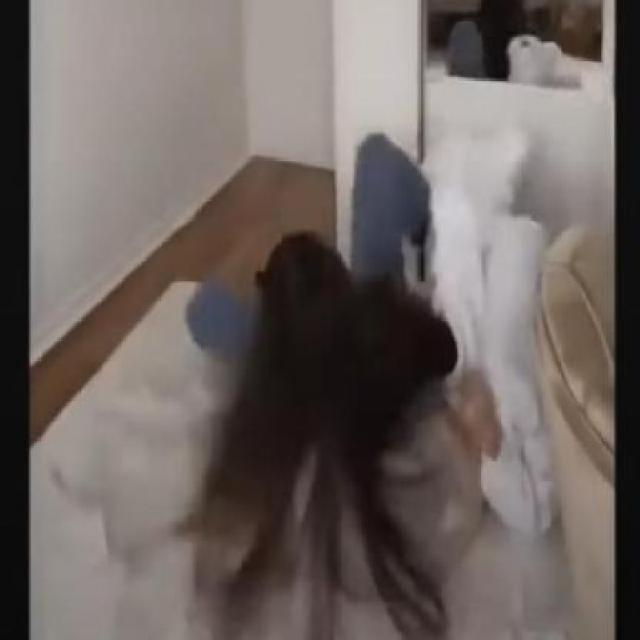fall: (186, 124, 454, 431)
